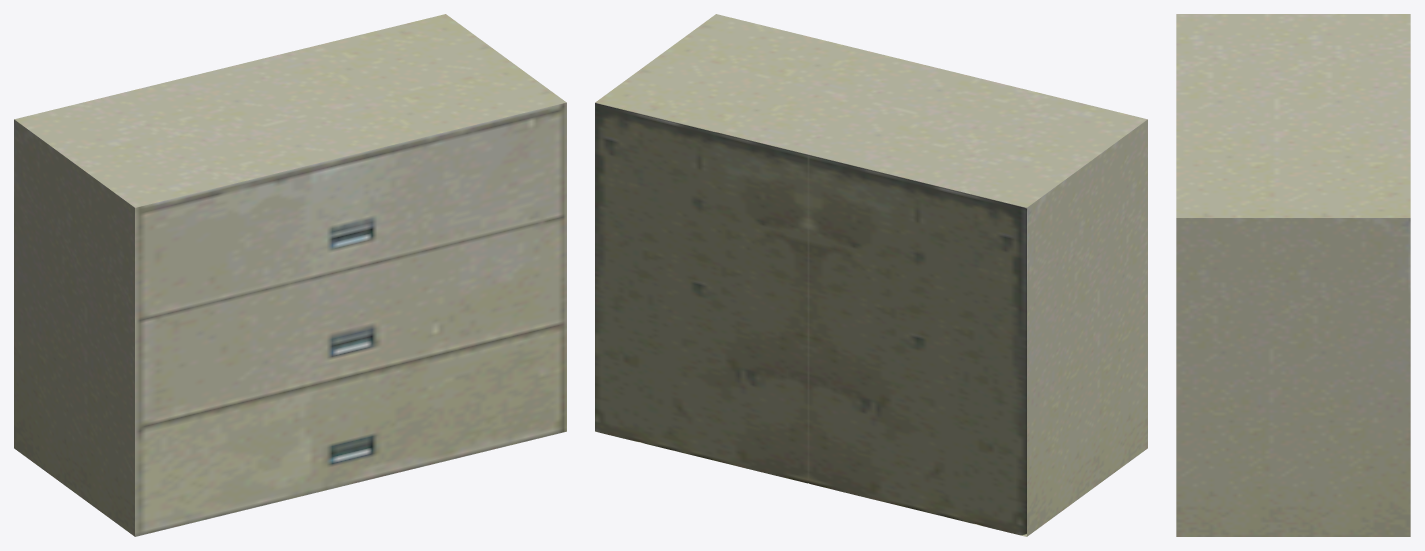
The model's file is file_cabinet_larger.fbx.
3 views of the same model, side by side, from view 1: azimuth 30°, elevation 25°; view 2: azimuth 150°, elevation 25°; view 3: azimuth 270°, elevation 25° (orthographic). The views are drawn at different scales.
Parts seen in each view (by area): view 1: file_cabinet_larger; view 2: file_cabinet_larger; view 3: file_cabinet_larger.
Part boxes in pixels (<box>): file_cabinet_larger: <box>14,14,566,536</box>; file_cabinet_larger: <box>595,14,1147,536</box>; file_cabinet_larger: <box>1176,14,1410,536</box>.
Size of the model in its own units: 144 by 105 by 69.94.
Materials: 1 (1 with a texture image).
